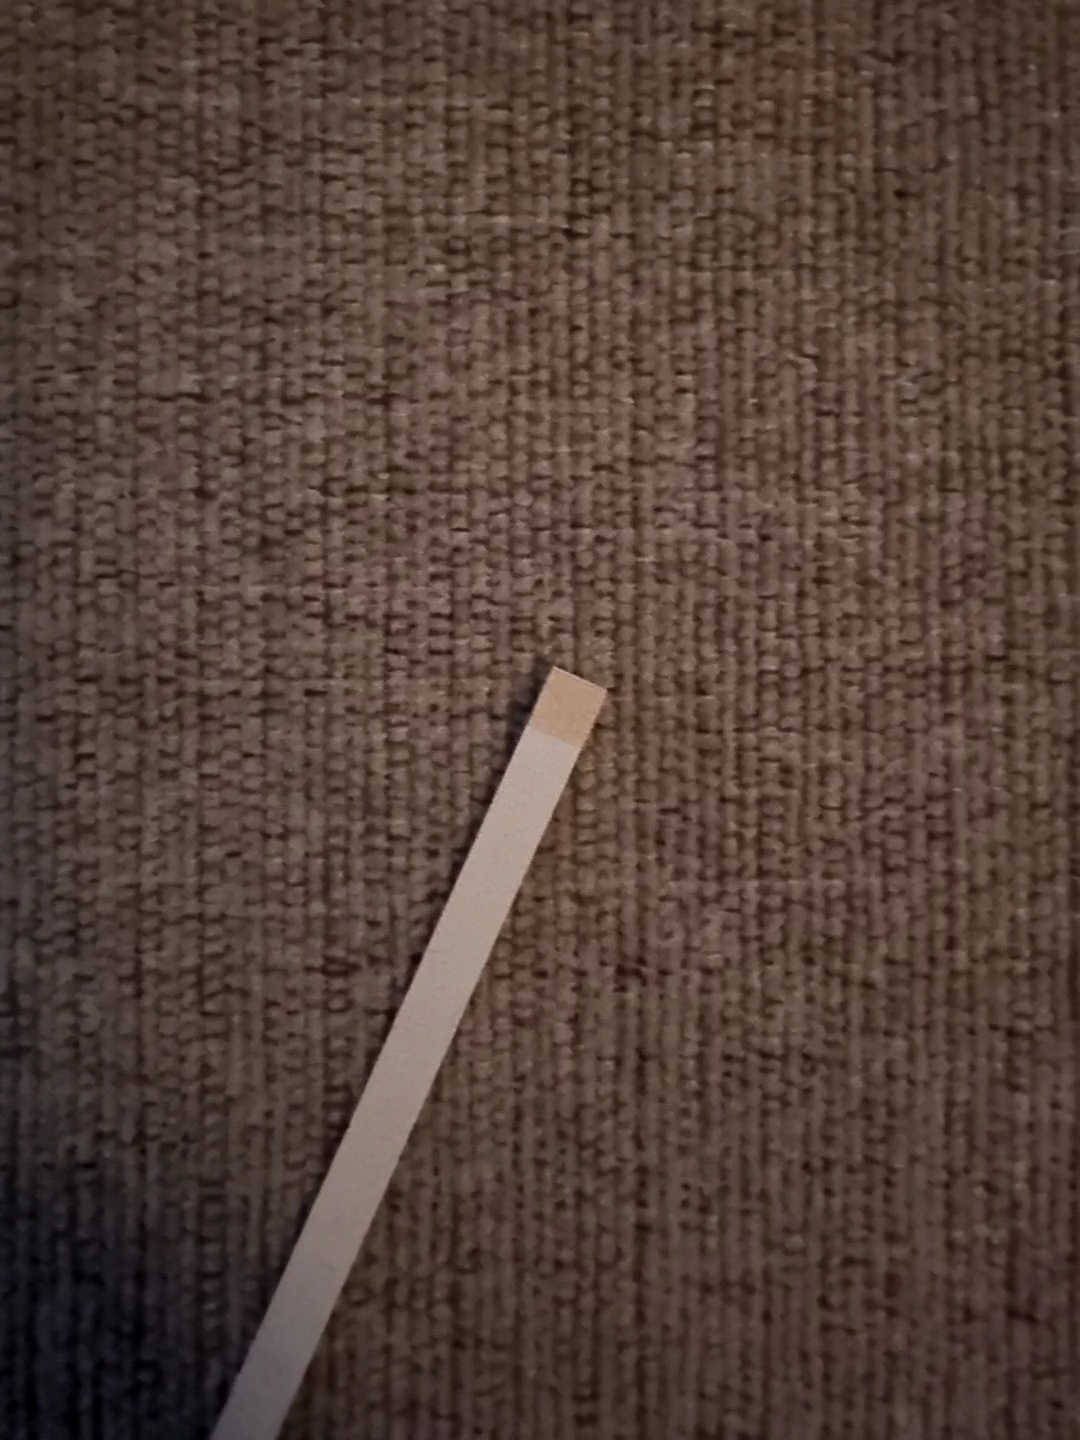keto-tip: (520, 663, 615, 752)
